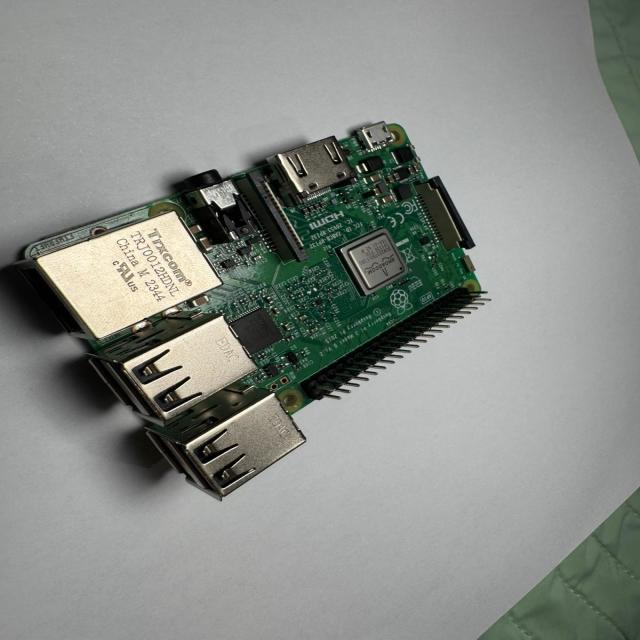CPU: (336, 226, 412, 299)
Ethernet: (12, 207, 227, 345)
GPIO: (299, 285, 497, 406)
HDMI: (268, 135, 360, 202)
RAM-3: (229, 306, 290, 359)
Raspberry: (11, 117, 494, 500)
